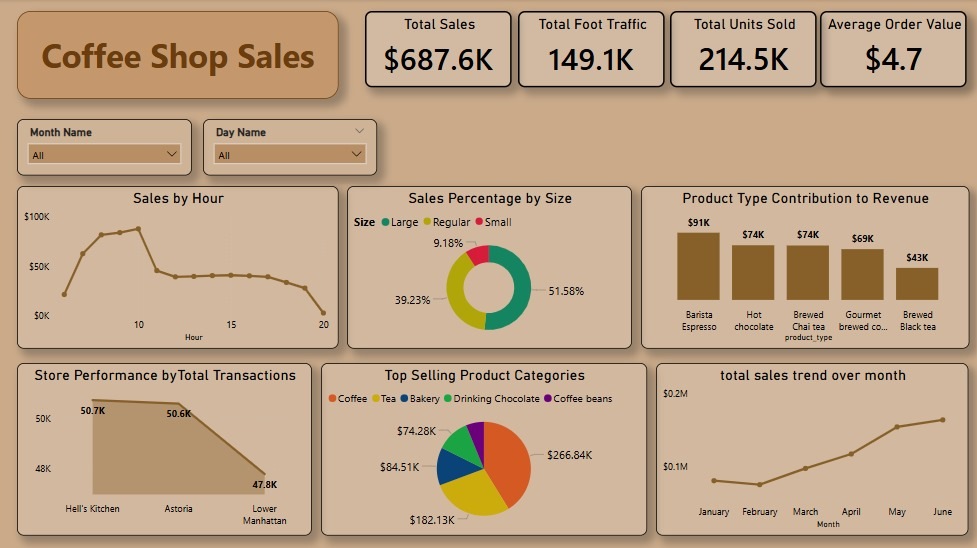

This screenshot's page, from the dashboard's own definition file:
{"tool":"powerbi","page":{"name":"Page 1","canvas":[1280,720],"ordinal":0},"visuals":[{"type":"lineChart","title":"total sales trend over month","fields":{"Category":["Coffee Sales.transaction_date.Variation.Date Hierarchy.Month"],"Y":["Coffee Sales.Total Sales"]},"box":[859.1,476,409.3,226.4],"z":0},{"type":"card","title":"Total Sales","fields":{"Values":["Coffee Sales.Total Sales"]},"box":[477.5,16,191.6,100.1],"z":1000},{"type":"pieChart","title":"Top Selling Product Categories","fields":{"Category":["Coffee Sales.product_category"],"Y":["Coffee Sales.Total Sales"]},"box":[420.9,476,426.7,226.4],"z":2000},{"type":"columnChart","title":"Product Type Contribution to Revenue","fields":{"Category":["Coffee Sales.product_type"],"Y":["Coffee Sales.Total Sales"]},"box":[838.8,245.3,429.6,213.3],"z":3000},{"type":"lineChart","title":"Sales by Hour","fields":{"Y":["Coffee Sales.Total Sales"],"Category":["Coffee Sales.Hour"]},"box":[21.8,245.3,420.9,213.3],"z":4000},{"type":"areaChart","title":"Store Performance byTotal Transactions","fields":{"Category":["Coffee Sales.store_location"],"Y":["Count(Coffee Sales.transaction_id)"]},"box":[21.8,476,386,226.4],"z":5000},{"type":"card","title":"Average Order Value","fields":{"Values":["Coffee Sales.average_transaction_value"]},"box":[1073.9,16,192,100],"z":6000},{"type":"donutChart","title":"Sales Percentage by Size","fields":{"Y":["Coffee Sales.Total Sales"],"Category":["Coffee Sales.Size"]},"box":[454.2,245.3,373,213.3],"z":7000},{"type":"card","title":"Total Foot Traffic","fields":{"Values":["Coffee Sales.Total Foot Traffic"]},"box":[677.7,16,191.6,100.1],"z":8000},{"type":"card","title":"Total Units Sold","fields":{"Values":["Coffee Sales.Total Units Sold"]},"box":[876.6,16,191.6,100],"z":9000},{"type":"textbox","box":[21.8,16,420.9,114.6],"z":10000},{"type":"slicer","fields":{"Values":["Coffee Sales.Month Name"]},"box":[21.8,156.7,229.3,74],"z":11000},{"type":"slicer","fields":{"Values":["Coffee Sales.Day Name"]},"box":[265.6,156.7,227.8,74],"z":12000}]}

Visuals, with their boxes in screenshot pixels (x1, y1, x2, y2), scaled from the page's 1280x720 canvas onto the 977x548 screenshot:
"total sales trend over month" lineChart: l=656, t=362, r=968, b=535
"Total Sales" card: l=364, t=12, r=511, b=88
"Top Selling Product Categories" pieChart: l=321, t=362, r=647, b=535
"Product Type Contribution to Revenue" columnChart: l=640, t=187, r=968, b=349
"Sales by Hour" lineChart: l=17, t=187, r=338, b=349
"Store Performance byTotal Transactions" areaChart: l=17, t=362, r=311, b=535
"Average Order Value" card: l=820, t=12, r=966, b=88
"Sales Percentage by Size" donutChart: l=347, t=187, r=631, b=349
"Total Foot Traffic" card: l=517, t=12, r=664, b=88
"Total Units Sold" card: l=669, t=12, r=815, b=88
textbox: l=17, t=12, r=338, b=99
slicer - Coffee Sales.Month Name: l=17, t=119, r=192, b=176
slicer - Coffee Sales.Day Name: l=203, t=119, r=377, b=176
